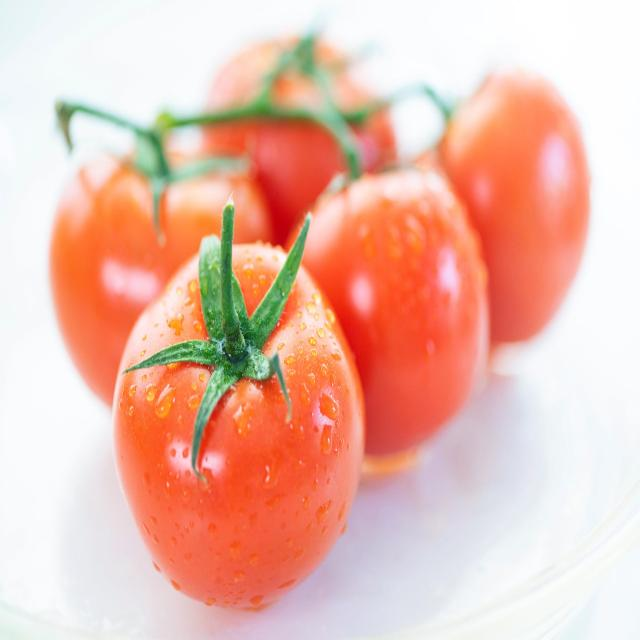kirmizi: (54, 87, 602, 616)
